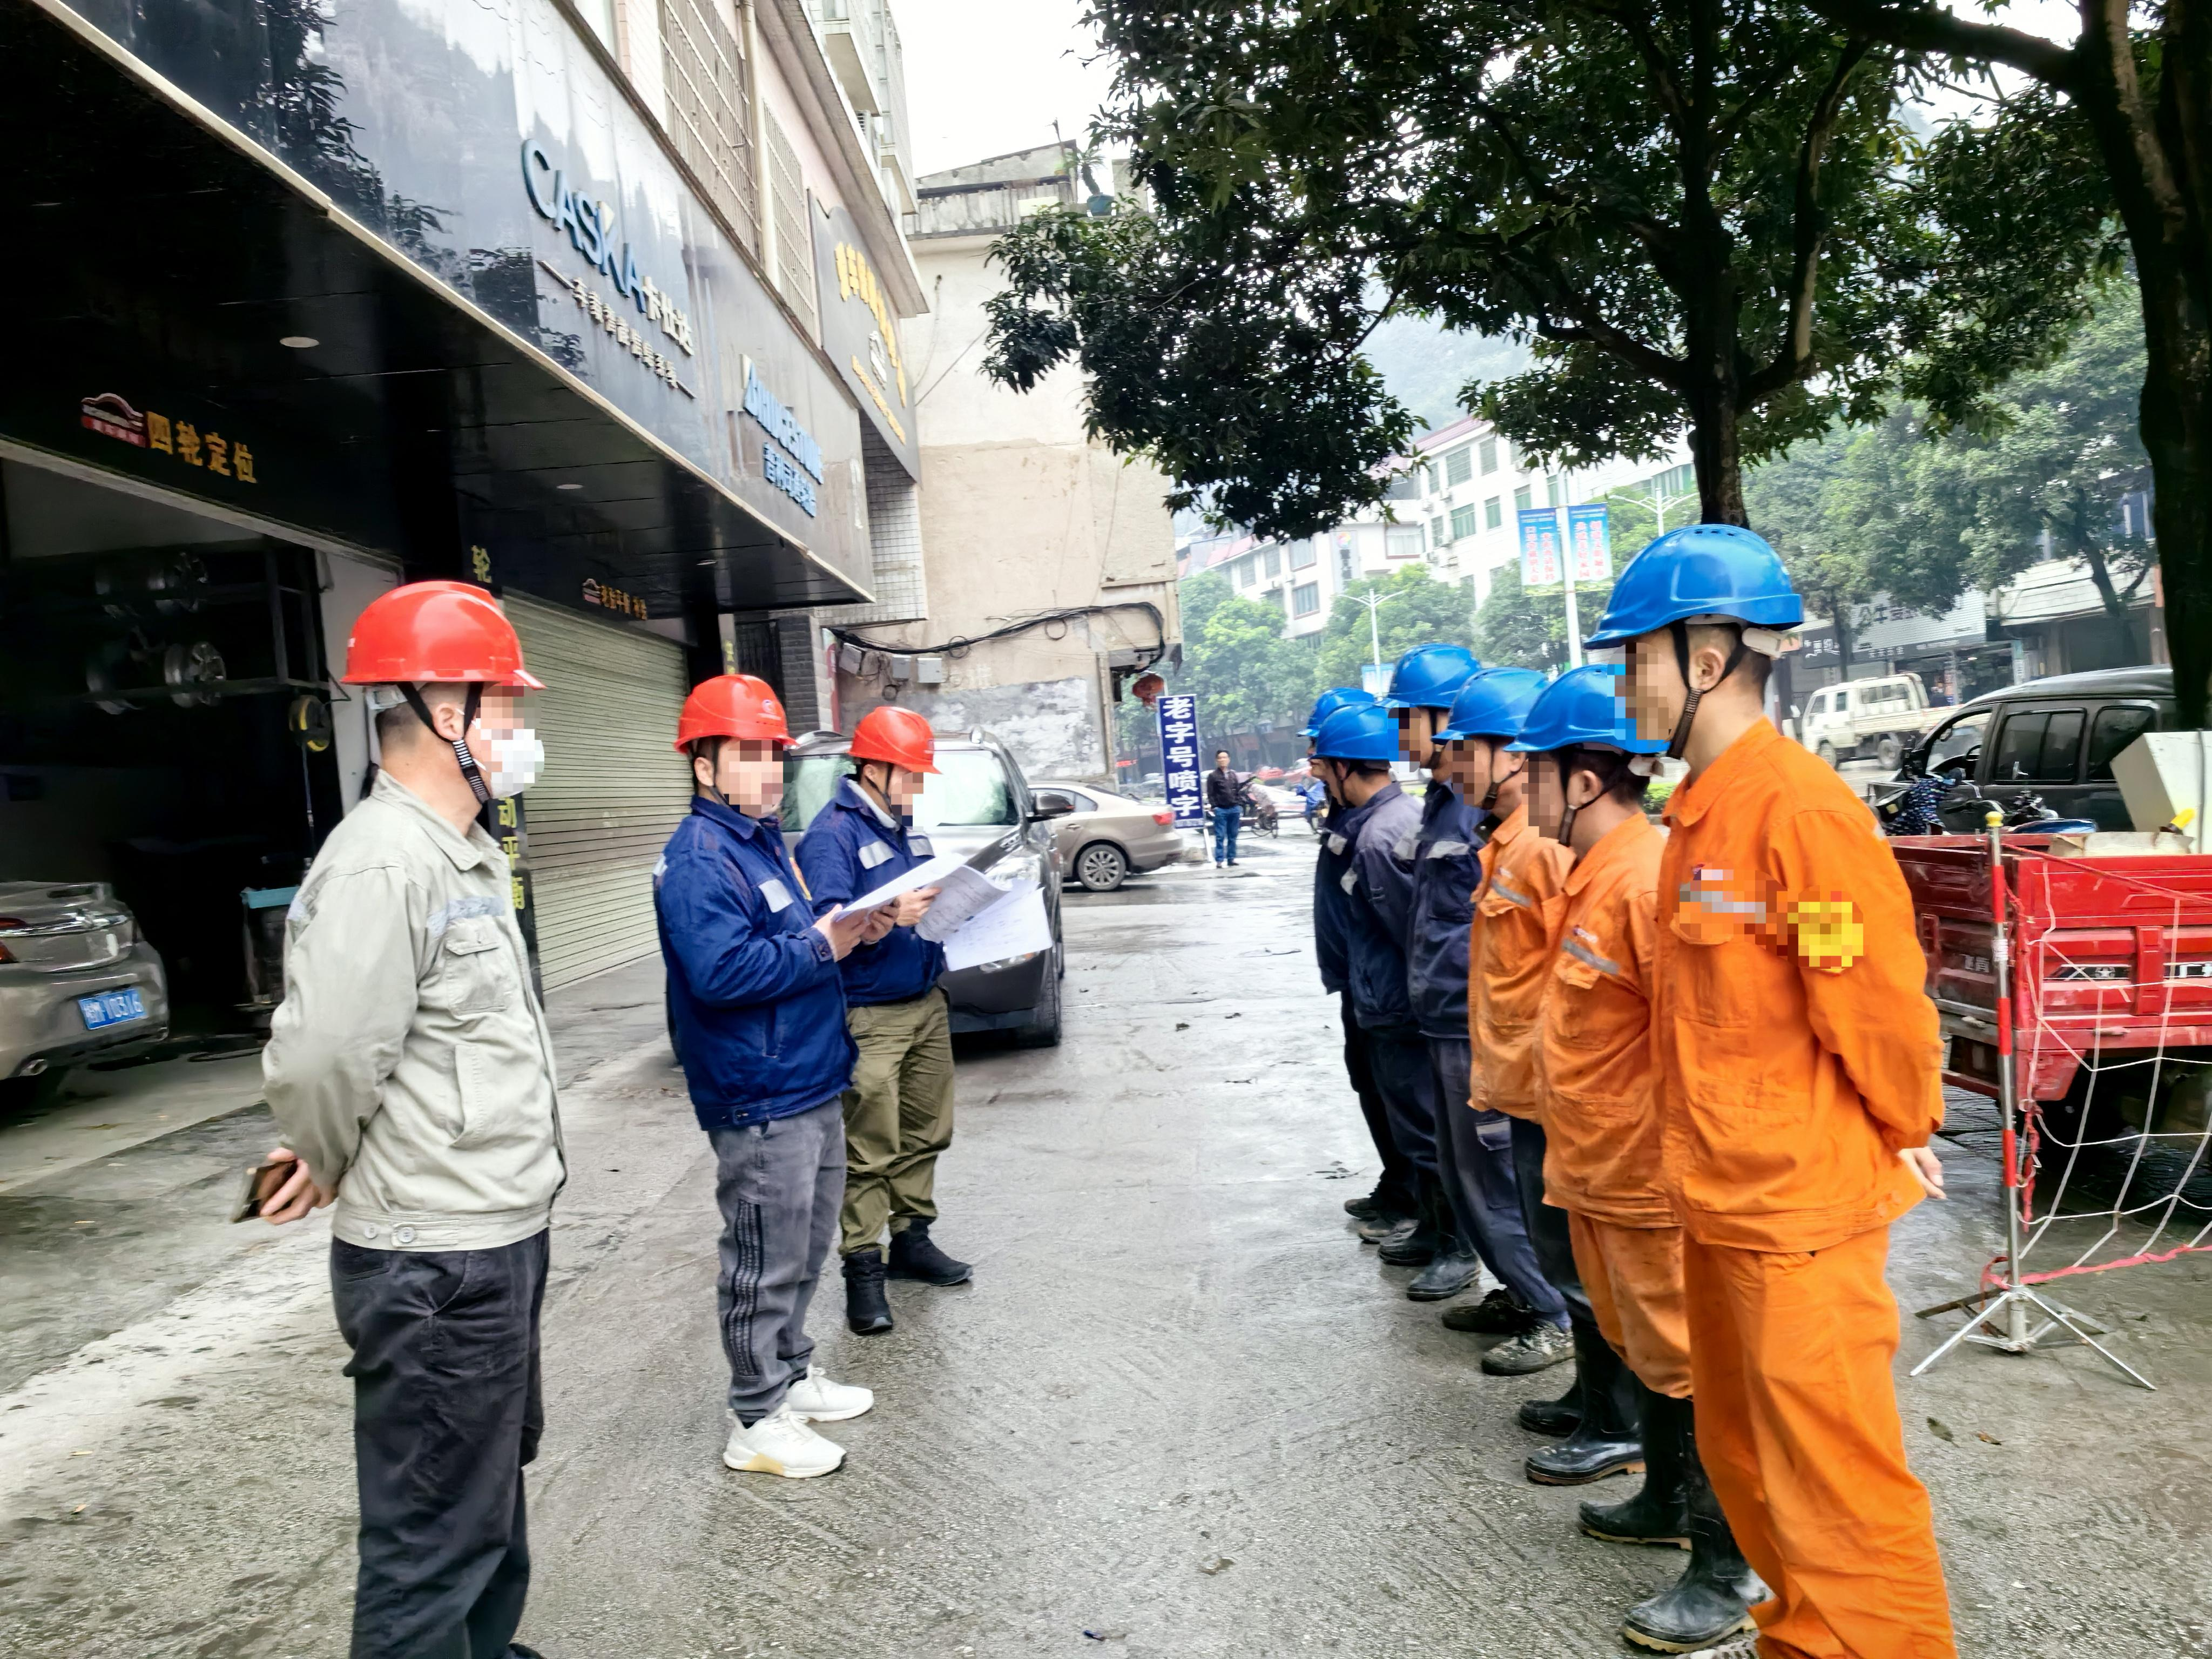halt: (1592, 523, 1813, 751), (340, 582, 543, 809), (1517, 669, 1660, 840), (676, 673, 799, 814), (1439, 667, 1522, 814), (1305, 687, 1404, 807), (845, 706, 941, 814), (1388, 643, 1475, 741)
inear: (1658, 624, 1749, 723), (399, 687, 498, 772), (1557, 760, 1615, 833), (686, 742, 733, 795), (859, 756, 899, 810), (1491, 741, 1529, 796), (1331, 762, 1357, 791)
unhalt: (1212, 749, 1237, 770)
